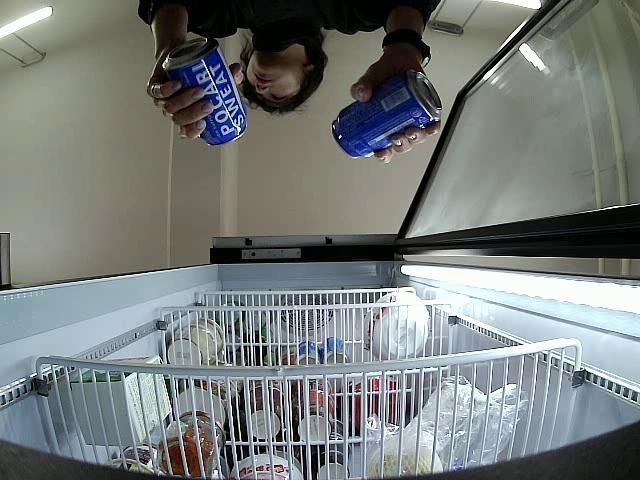13_pocariSweat: (332, 72, 441, 158), (162, 40, 248, 148)
